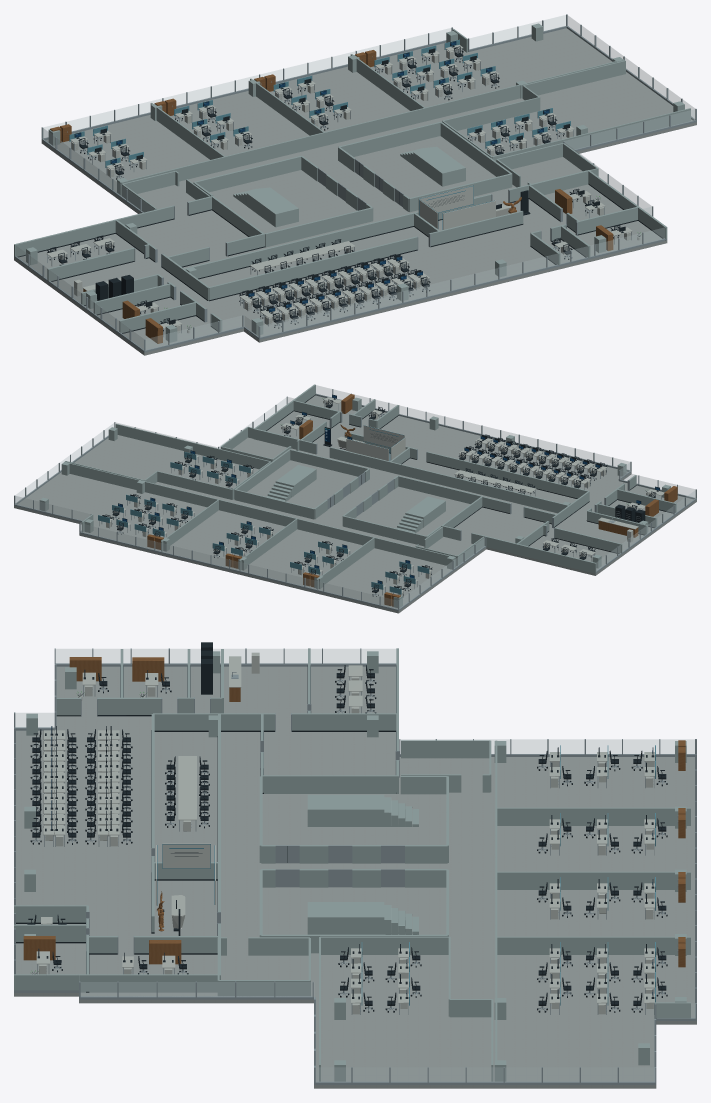
The model's file is f12-stage-lod1.glb.
3 views of the same model, one above another, from view 1: azimuth 30°, elevation 25°; view 2: azimuth 150°, elevation 25°; view 3: azimuth 270°, elevation 25° (orthographic). The views are drawn at different scales.
Parts seen in each view (by area): view 1: V6_F12_FLOOR, V6_F12_WALL, V6_F12_FURNITURE; view 2: V6_F12_FLOOR, V6_F12_WALL, V6_F12_FURNITURE; view 3: V6_F12_FLOOR, V6_F12_WALL, V6_F12_FURNITURE.
Part boxes in pixels (<box>): V6_F12_FLOOR: <box>14,28,696,355</box>; V6_F12_WALL: <box>14,14,696,350</box>; V6_F12_FURNITURE: <box>14,26,696,352</box>; V6_F12_FLOOR: <box>14,395,696,613</box>; V6_F12_WALL: <box>14,384,696,609</box>; V6_F12_FURNITURE: <box>14,393,696,611</box>; V6_F12_FLOOR: <box>14,666,696,1088</box>; V6_F12_WALL: <box>14,648,696,1082</box>; V6_F12_FURNITURE: <box>14,642,696,1084</box>.
Bounding box in the file's own units: 55.47 × 2.58 × 38.19.
15 materials, 3 textured.
